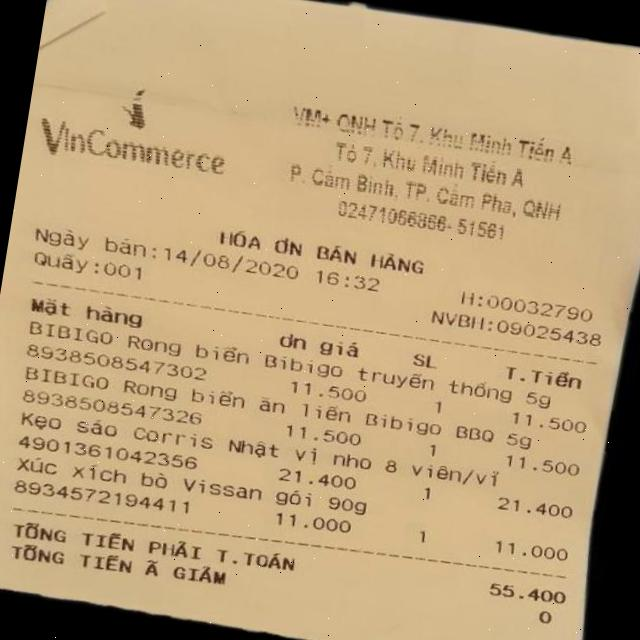Date: (156, 240, 308, 294)
Store_Name: (22, 58, 259, 191)
amount_number: (480, 574, 576, 612)
label_total: (7, 508, 302, 584)
